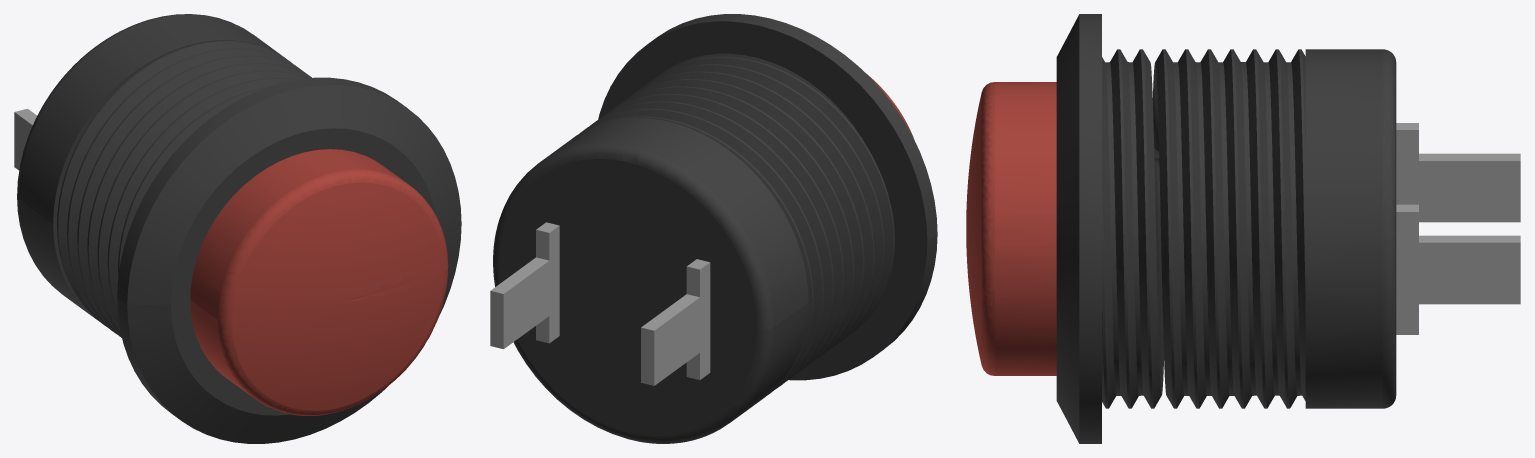
The model's file is 1445 16mm button.glb.
3 views of the same model, side by side, from view 1: azimuth 30°, elevation 25°; view 2: azimuth 150°, elevation 25°; view 3: azimuth 270°, elevation 25° (orthographic). The views are drawn at different scales.
Parts seen in each view (by area): view 1: 16mm push button PID 1445 v1; view 2: 16mm push button PID 1445 v1; view 3: 16mm push button PID 1445 v1.
Boxes of the visible parts, x1,y1,x2,y2 form: 16mm push button PID 1445 v1: [14, 14, 461, 443]; 16mm push button PID 1445 v1: [490, 14, 937, 443]; 16mm push button PID 1445 v1: [966, 14, 1520, 443].
Size of the model in its own units: 19 by 19 by 24.5.
